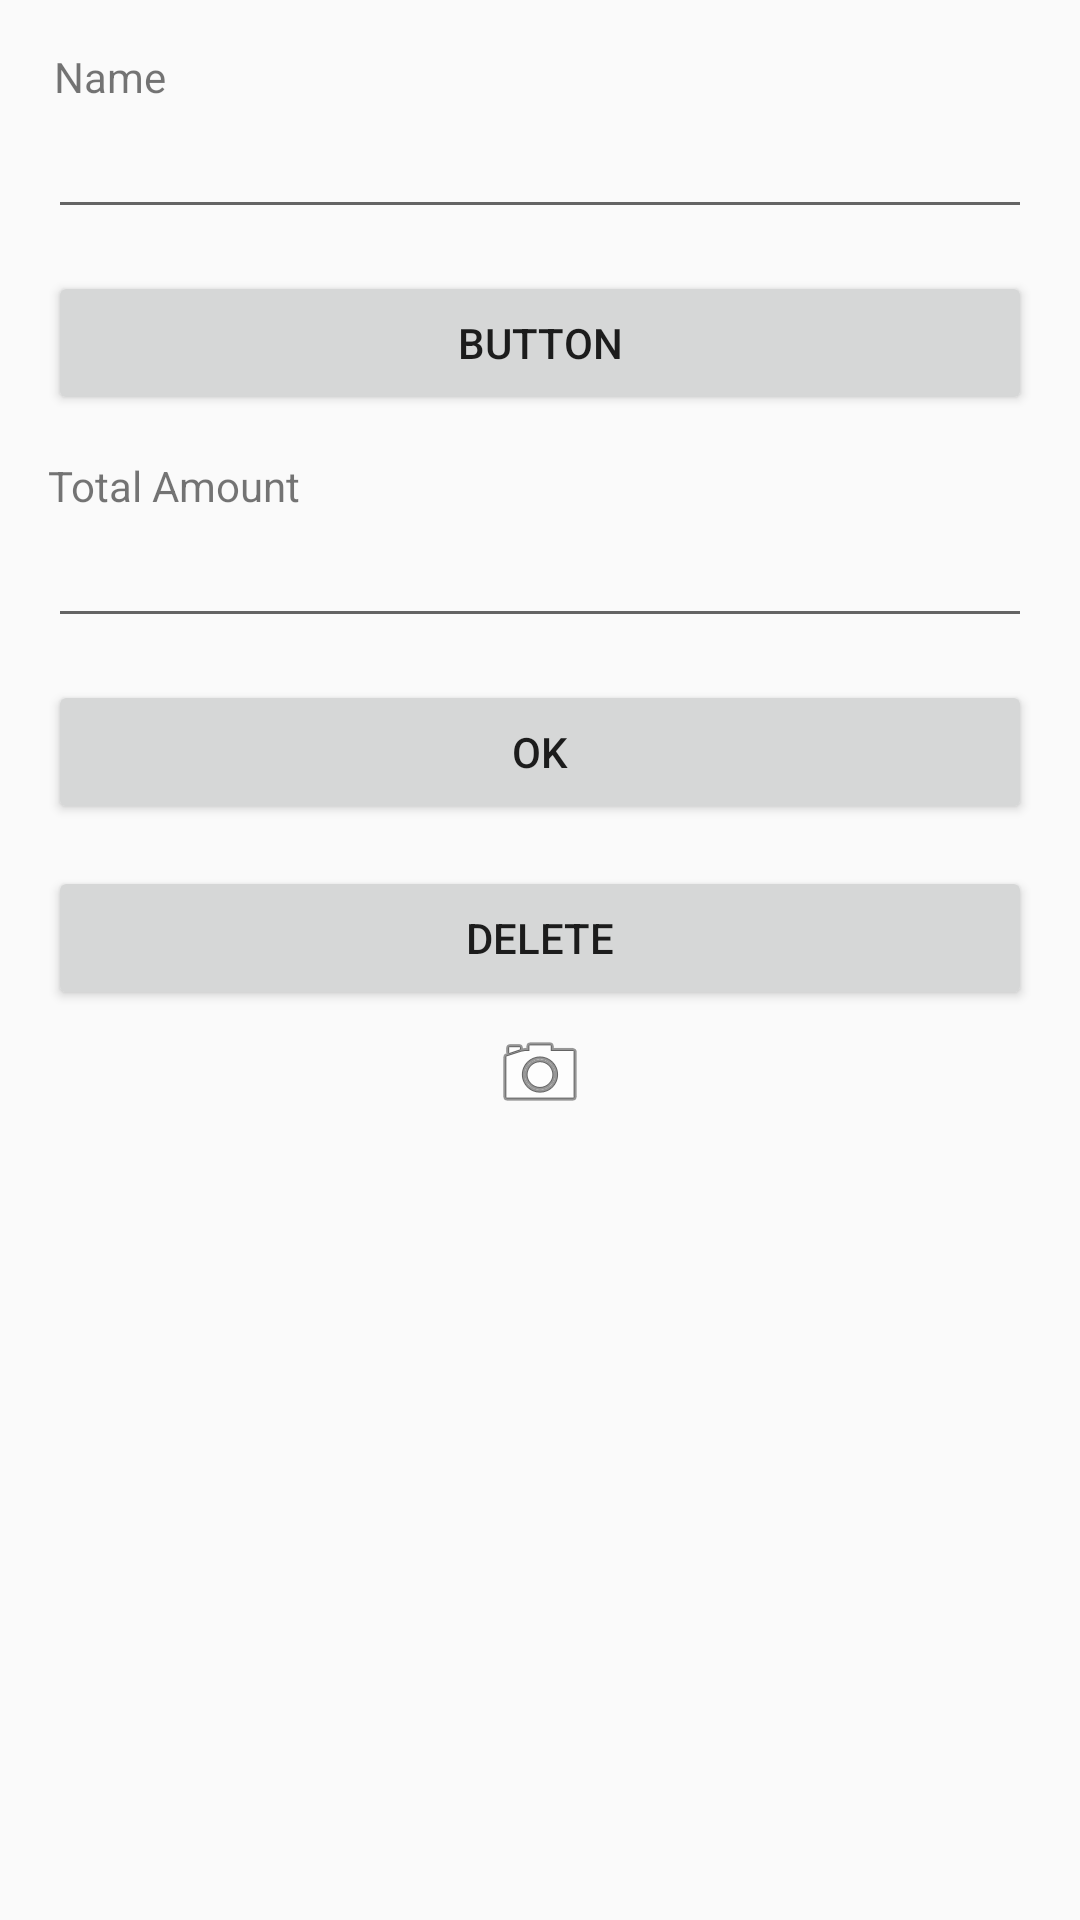

Named icons in this screenshot (1080px x 1920px) and their centers, point (x, y):
camera: point (540, 1071)
